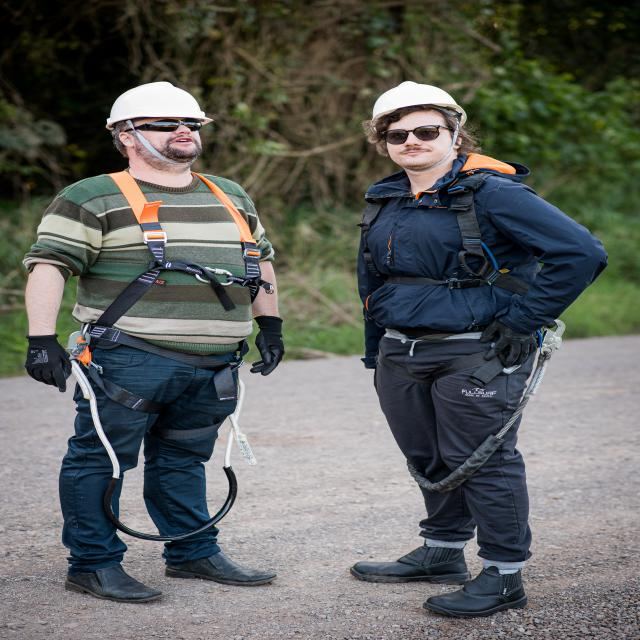botas: (418, 560, 534, 618), (351, 543, 475, 586), (60, 558, 168, 606), (159, 545, 282, 587)
capacete: (99, 79, 218, 135), (365, 76, 472, 135)
corda de vida: (64, 163, 275, 438), (353, 166, 573, 394)
luva: (475, 314, 540, 370), (19, 328, 74, 394), (245, 311, 291, 379)
